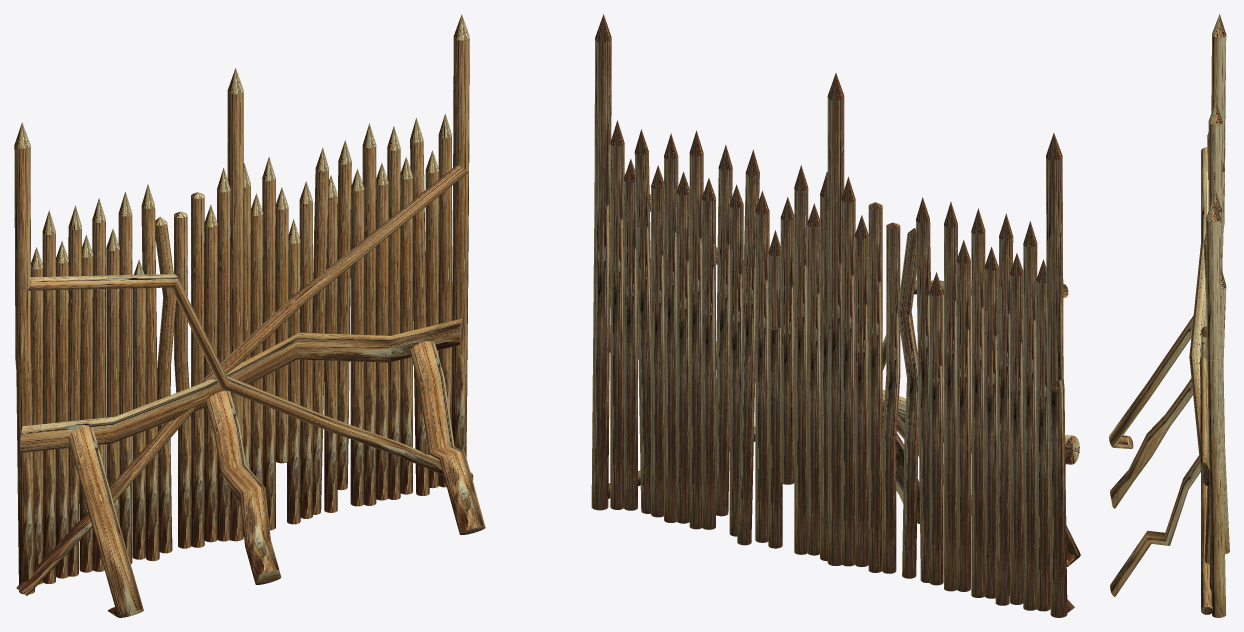
3 views of the same model, side by side, from view 1: azimuth 30°, elevation 25°; view 2: azimuth 150°, elevation 25°; view 3: azimuth 270°, elevation 25° (orthographic). The views are drawn at different scales.
Visible parts, largest first — view 1: Cylinder136, Cylinder134, Cylinder107, Cylinder135, Cylinder133, Cylinder132, Cylinder100, Cylinder128, Cylinder117, Cylinder106, Cylinder125, Cylinder102 (+26 smaller); view 2: Cylinder133, Cylinder107, Cylinder132, Cylinder126, Cylinder100, Cylinder106, Cylinder098, Cylinder104, Cylinder116, Cylinder127, Cylinder108, Cylinder128 (+24 smaller); view 3: Cylinder136, Cylinder133, Cylinder135, Cylinder107, Cylinder132, Cylinder115, Cylinder126, Cylinder116, Cylinder102, Cylinder134, Cylinder105.
Part boxes in pixels (x1,y1,x2,y2): Cylinder136: [20, 318, 485, 617]; Cylinder134: [16, 164, 468, 595]; Cylinder107: [14, 122, 34, 594]; Cylinder135: [22, 274, 473, 480]; Cylinder133: [452, 14, 469, 457]; Cylinder132: [227, 68, 243, 541]; Cylinder100: [191, 192, 204, 547]; Cylinder128: [362, 123, 376, 505]; Cylinder117: [387, 126, 400, 499]; Cylinder106: [42, 210, 55, 583]; Cylinder125: [350, 169, 364, 506]; Cylinder102: [141, 184, 159, 561]; Cylinder133: [591, 14, 611, 510]; Cylinder107: [1046, 133, 1067, 617]; Cylinder132: [827, 73, 844, 565]; Cylinder126: [737, 149, 759, 545]; Cylinder100: [868, 202, 882, 572]; Cylinder106: [1023, 221, 1037, 610]; Cylinder098: [841, 176, 855, 566]; Cylinder104: [971, 208, 985, 597]; Cylinder116: [610, 120, 624, 509]; Cylinder127: [794, 165, 808, 554]; Cylinder108: [882, 222, 900, 573]; Cylinder128: [689, 130, 703, 529]; Cylinder136: [1109, 308, 1209, 596]; Cylinder133: [1206, 198, 1226, 617]; Cylinder135: [1189, 147, 1212, 614]; Cylinder107: [1211, 14, 1226, 228]; Cylinder132: [1208, 101, 1222, 271]; Cylinder115: [1204, 267, 1226, 564]; Cylinder126: [1203, 233, 1229, 554]; Cylinder116: [1209, 295, 1221, 591]; Cylinder102: [1222, 161, 1224, 257]; Cylinder134: [1201, 326, 1207, 359]; Cylinder105: [1207, 132, 1224, 441].
Size of the model in its own units: 225 by 201 by 52.6.
